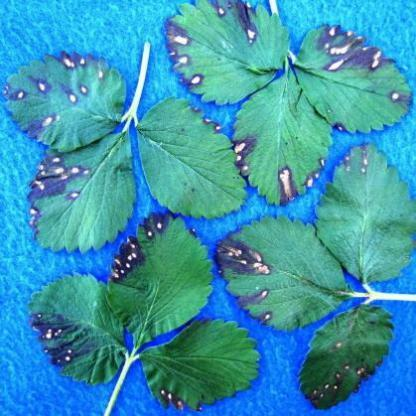Strawberry_Leaf_Spot: (211, 213, 355, 332), (105, 206, 216, 349), (232, 62, 336, 206), (313, 141, 415, 284), (25, 126, 137, 256), (136, 94, 250, 221), (291, 23, 414, 136), (164, 0, 292, 106), (2, 49, 127, 151), (138, 317, 264, 412), (26, 270, 128, 387), (297, 304, 395, 412)
